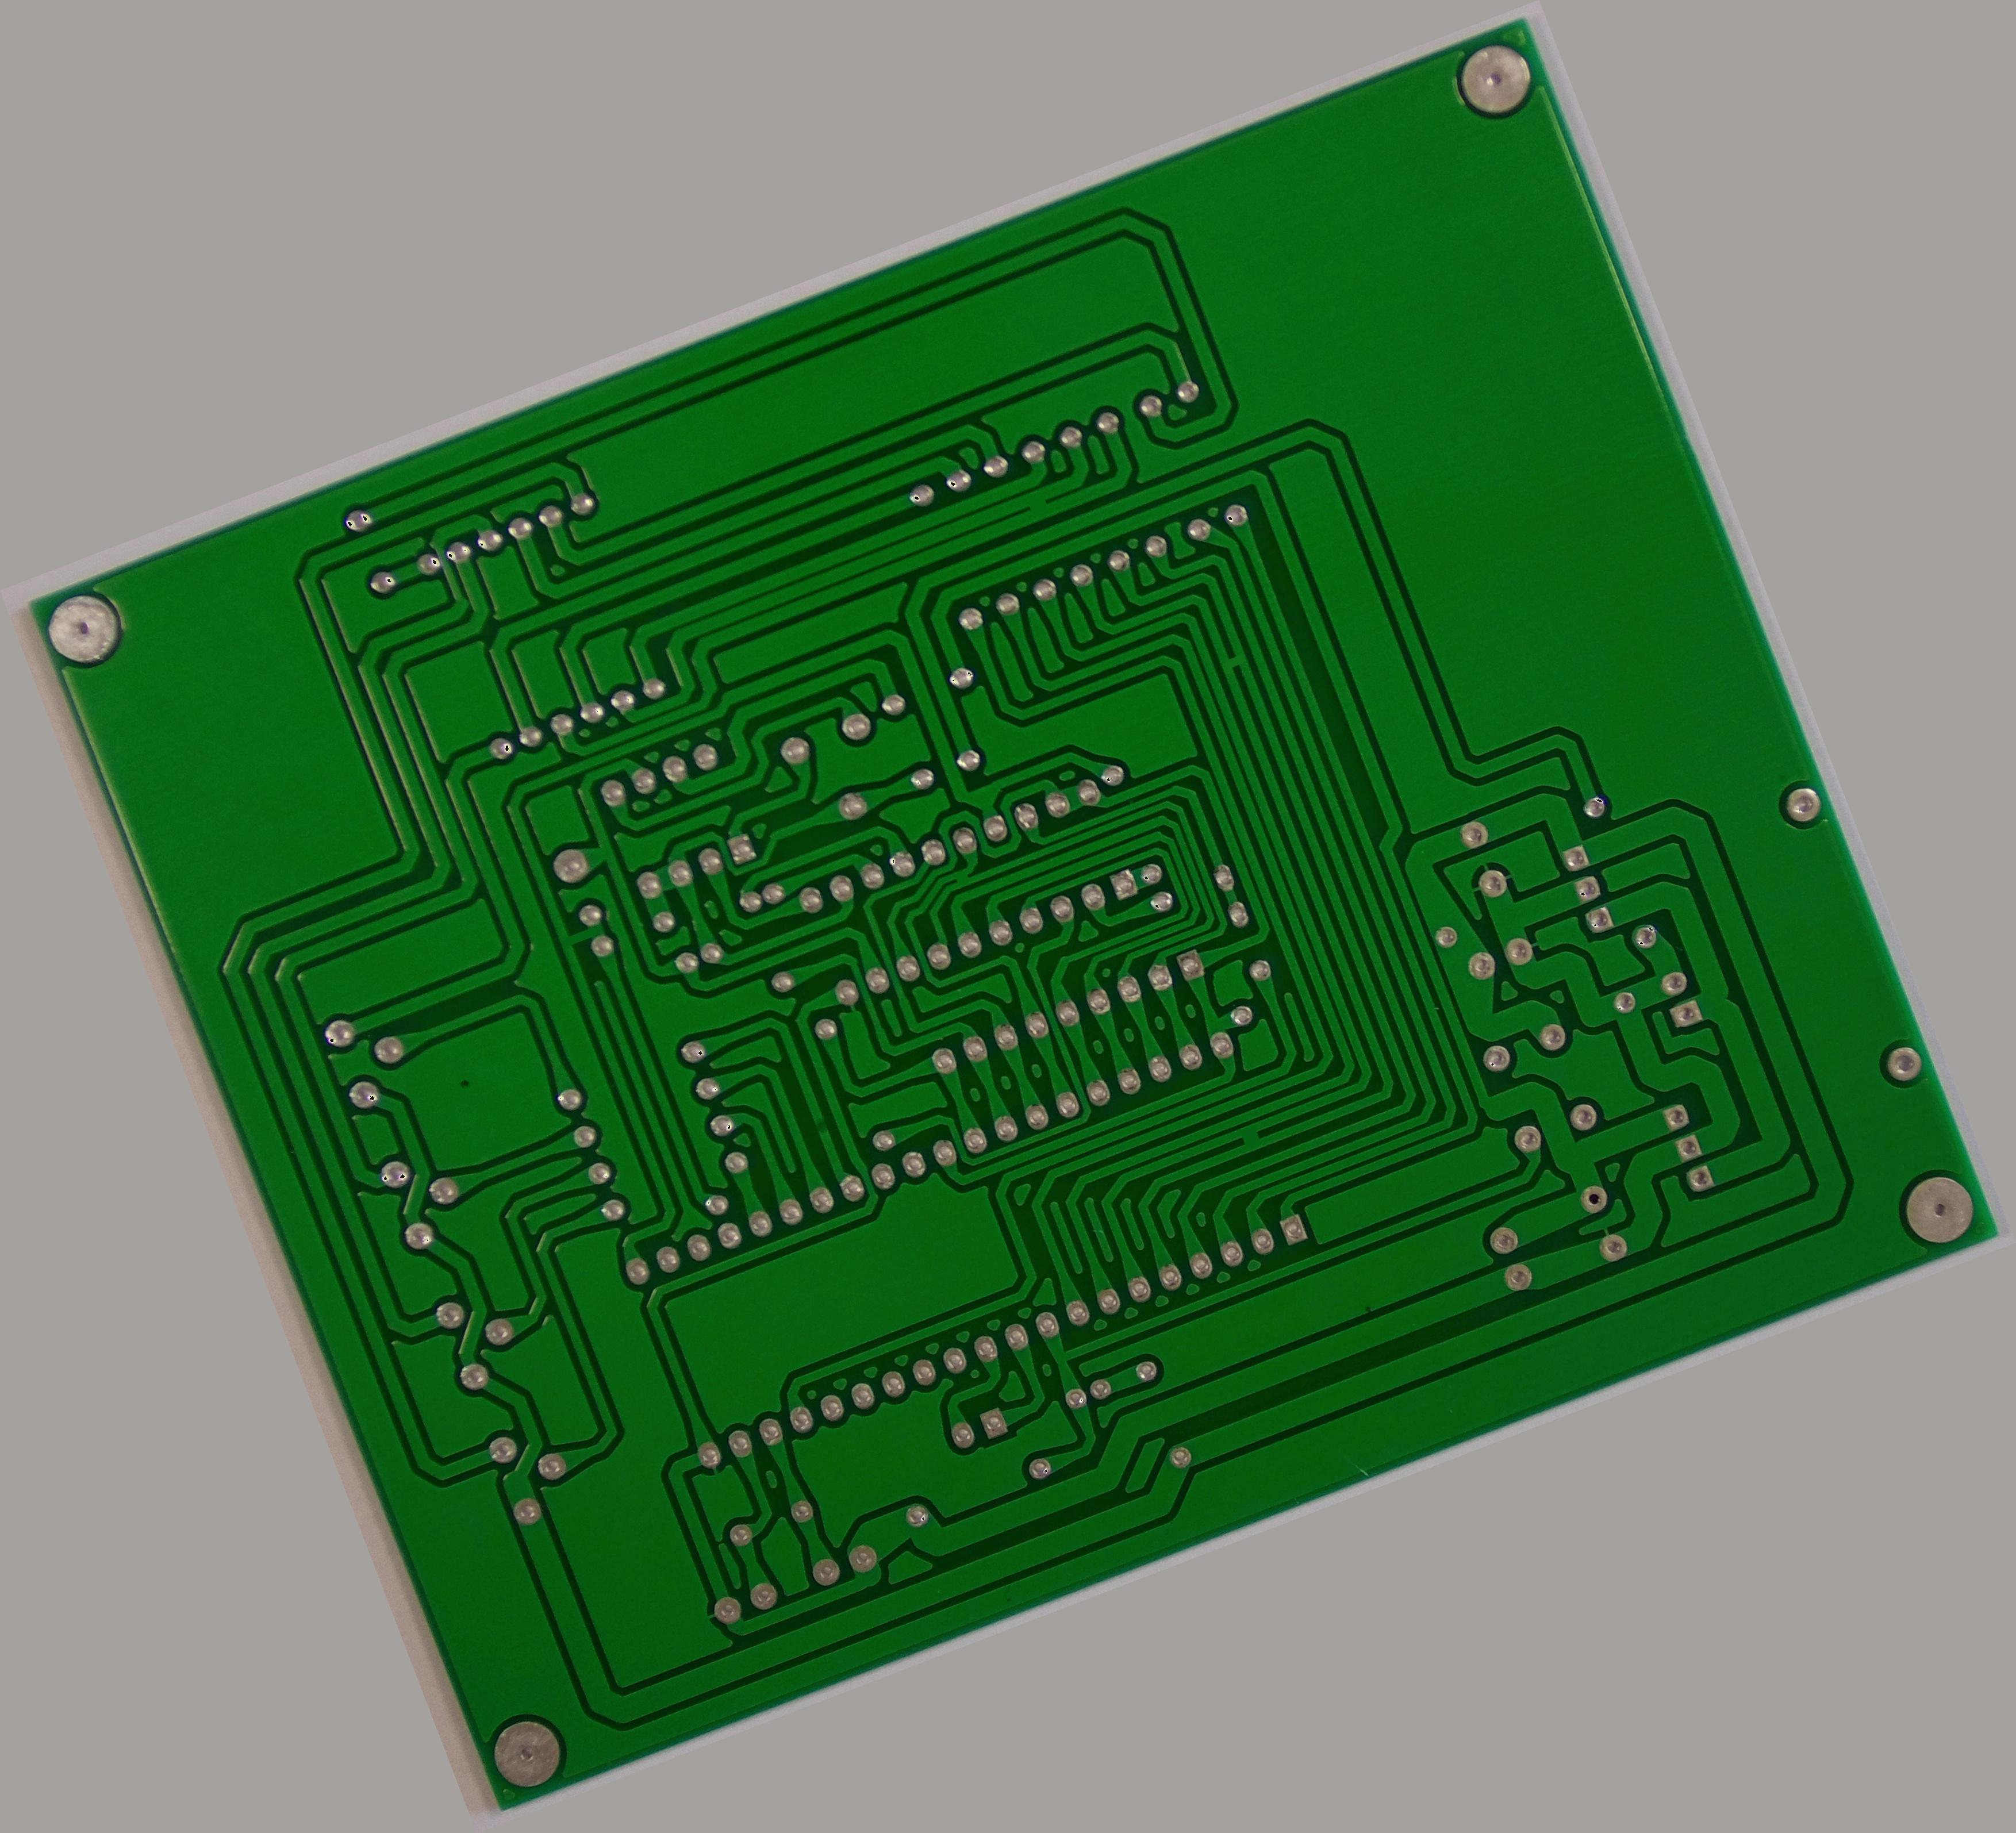short: (551, 909, 611, 964), (1012, 483, 1061, 528), (1229, 1113, 1273, 1155), (1215, 641, 1252, 678), (945, 864, 976, 890)
